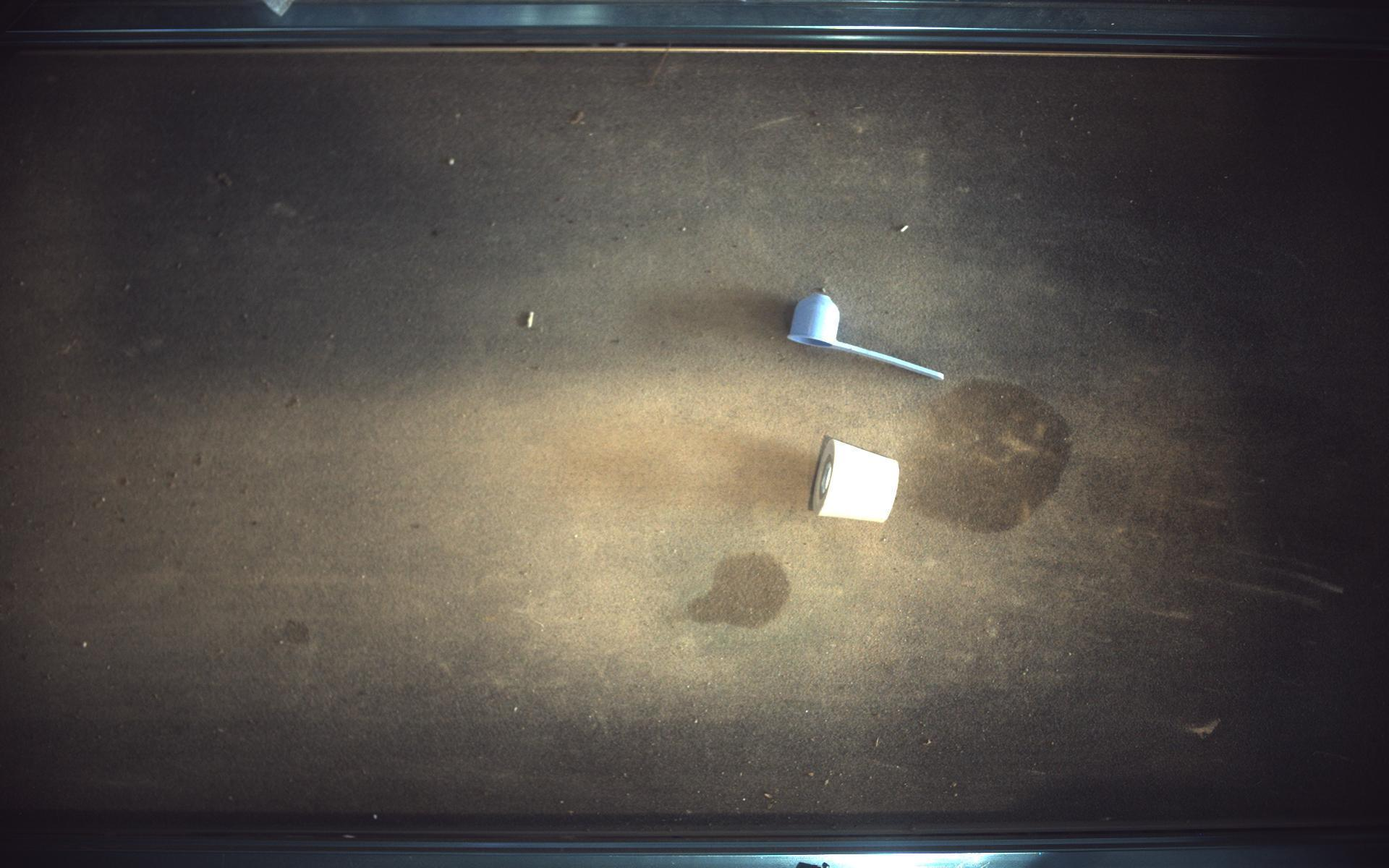general_w: (791, 289, 946, 380), (811, 436, 901, 523)
